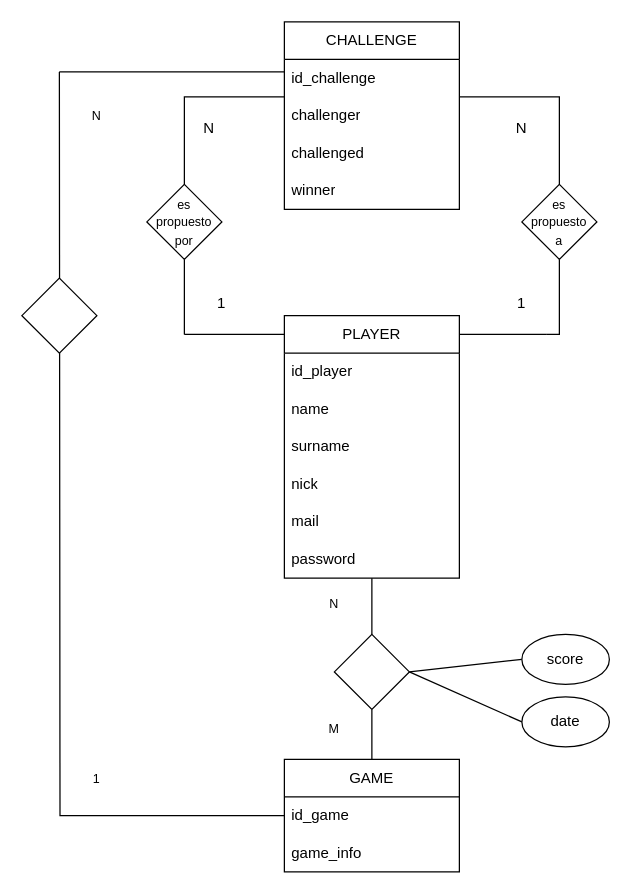
The diagram is 631 pixels wide and 894 high, and some of its shapes have lost their labels. Here are the shapes that lost their labels. From the top down, the centre of each, then its label:
point 59,315: puede ser
point 371,671: juega
